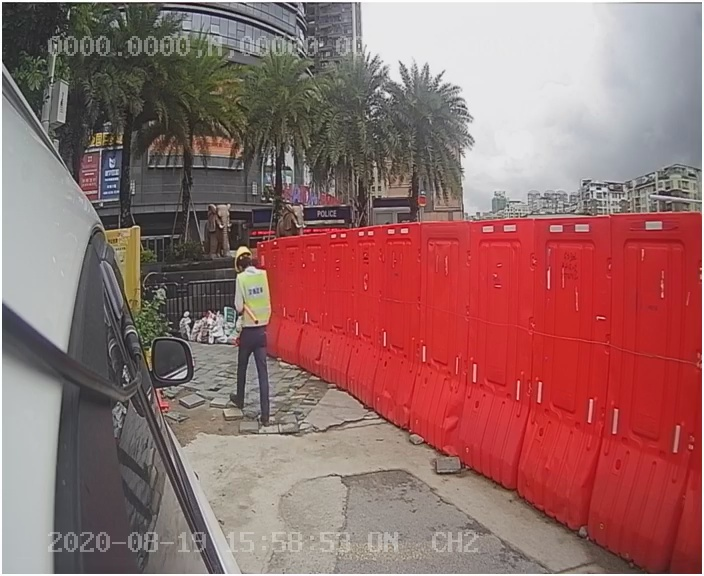person: (218, 242, 283, 427)
